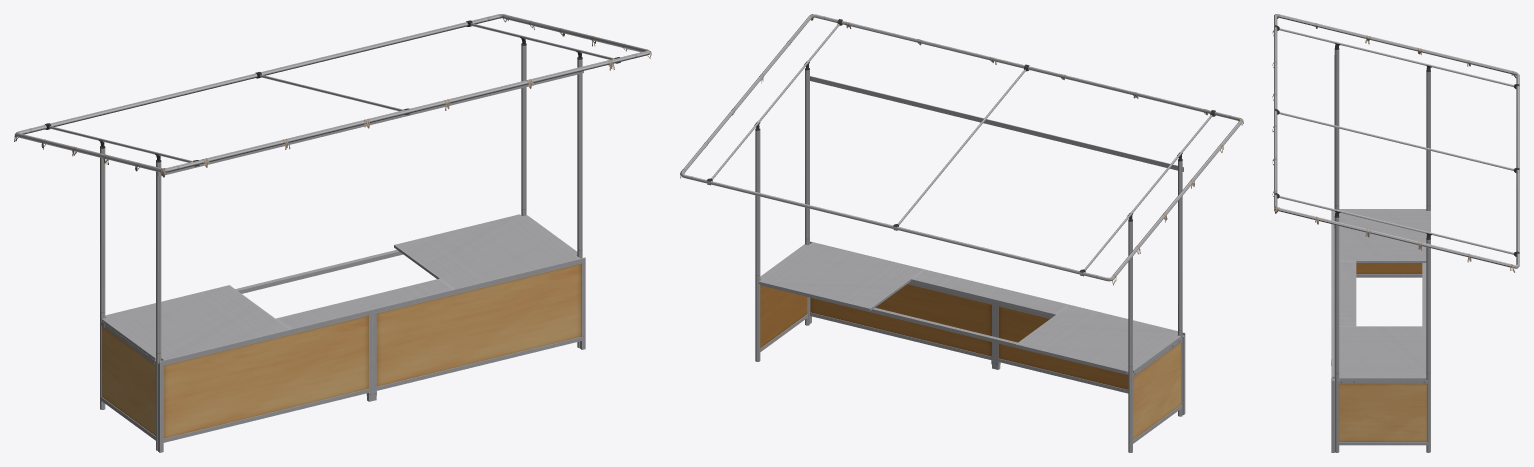
File: jsf_4P_s04_c05_t02.fbx
3 views of the same model, side by side, from view 1: azimuth 30°, elevation 25°; view 2: azimuth 150°, elevation 25°; view 3: azimuth 270°, elevation 25° (orthographic). The views are drawn at different scales.
Parts seen in each view (by area): view 1: Base_s04_c05, Table_4P_s04_t02, Pillar4_s04, Rope_4P_s04; view 2: Base_s04_c05, Table_4P_s04_t02, Pillar4_s04; view 3: Table_4P_s04_t02, Pillar4_s04, Base_s04_c05, Rope_4P_s04.
Part boxes in pixels (x1,y1,x2,y2): Base_s04_c05: (100,257,585,452); Table_4P_s04_t02: (101,214,579,364); Pillar4_s04: (14,14,649,450); Rope_4P_s04: (14,14,651,177); Base_s04_c05: (760,241,1185,443); Table_4P_s04_t02: (758,242,1181,376); Pillar4_s04: (680,14,1242,452); Table_4P_s04_t02: (1332,209,1430,383); Pillar4_s04: (1274,14,1519,452); Base_s04_c05: (1331,210,1427,452); Rope_4P_s04: (1272,14,1516,272).
Bounding box in the file's own units: 395 × 243 × 211.
